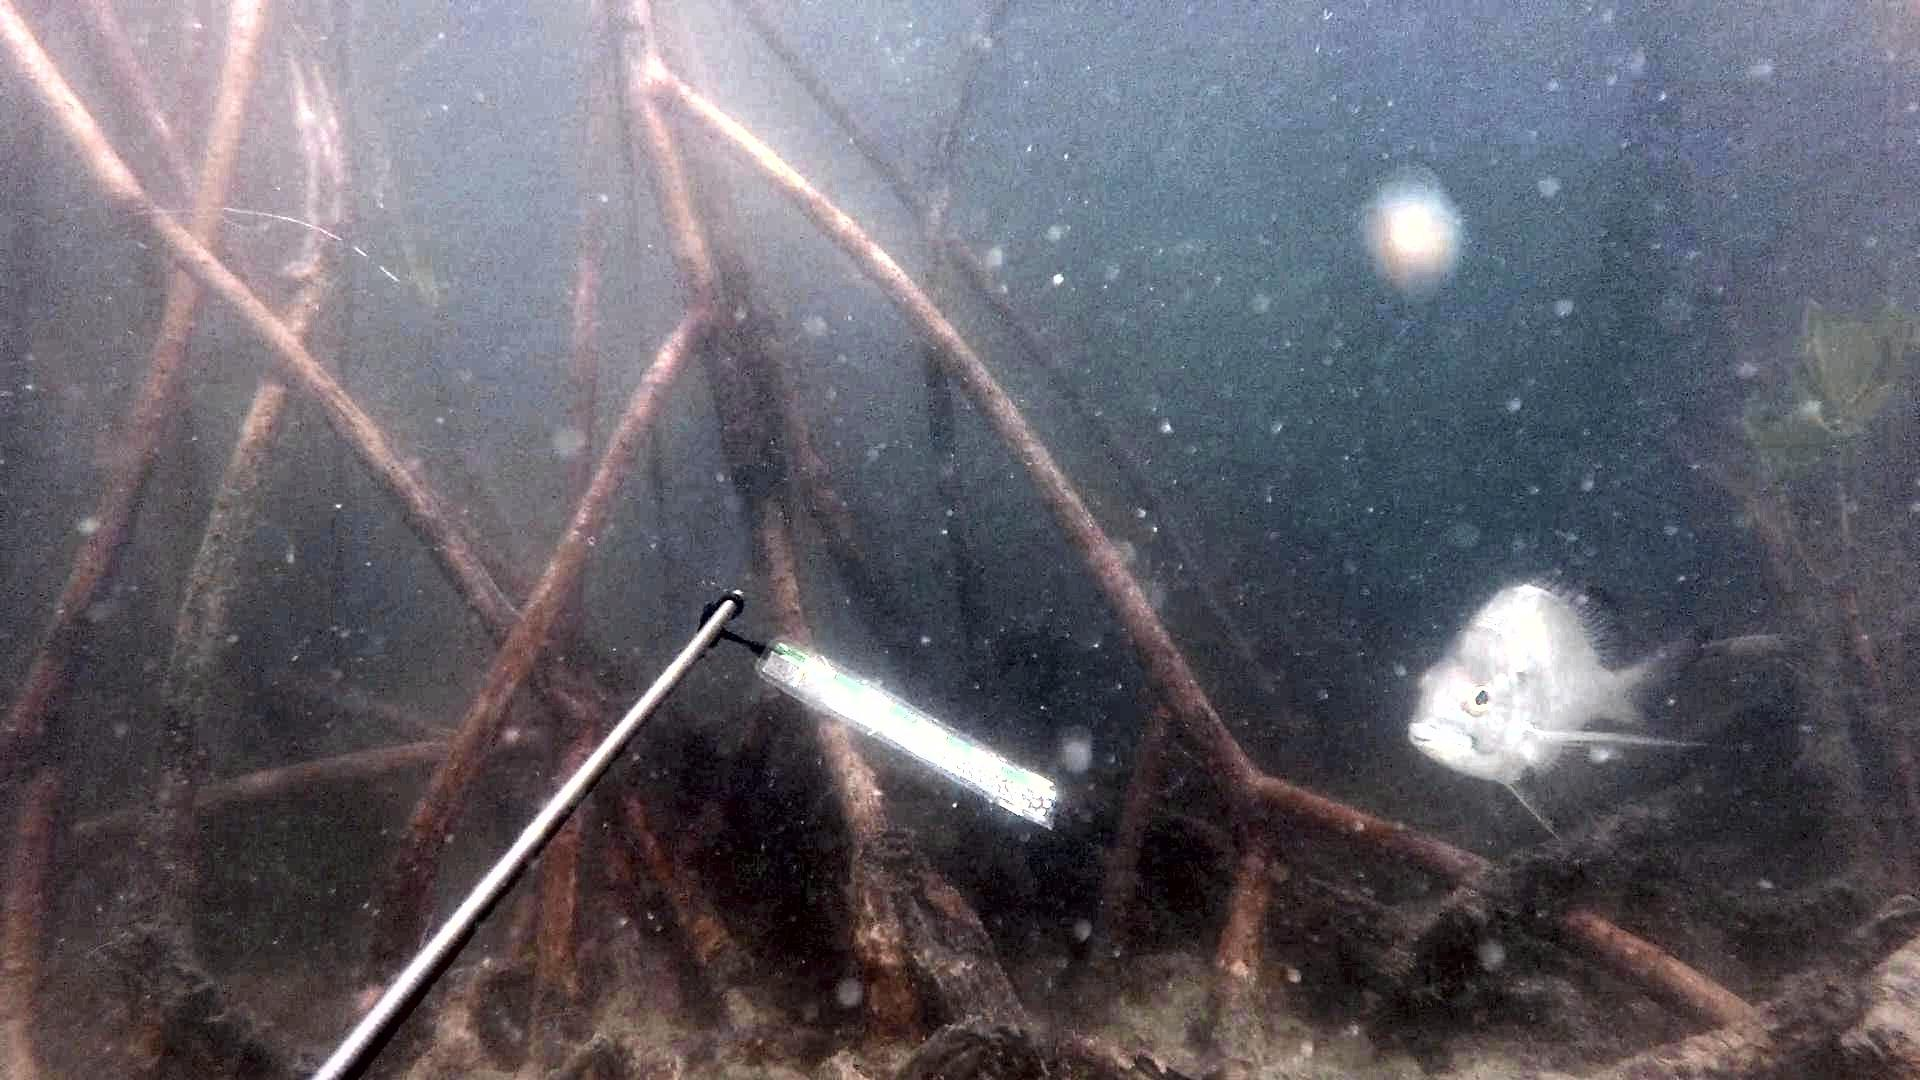acanthopagrus palmaris: (1400, 563, 1720, 844)
